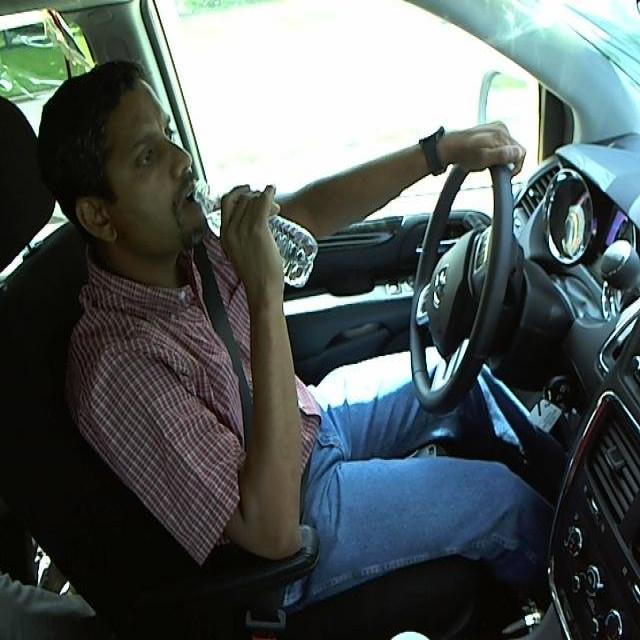drinking: (190, 170, 321, 290)
